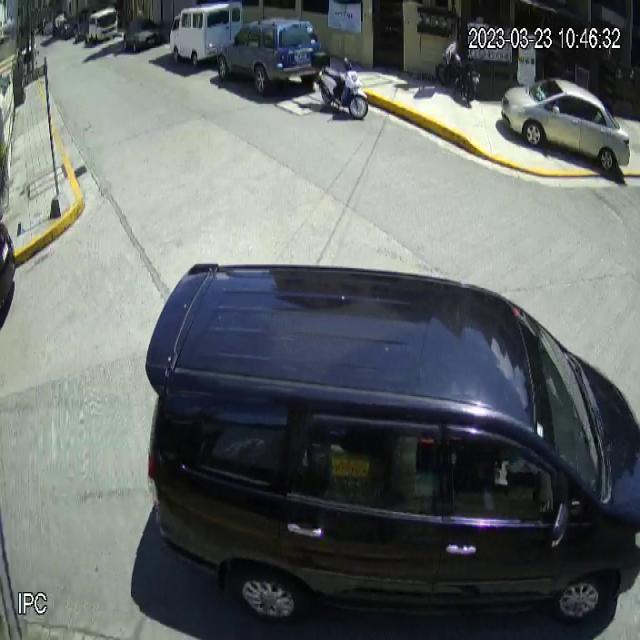Car: (144, 257, 640, 640), (499, 75, 632, 172), (216, 18, 320, 97)
Motorcycle: (310, 51, 369, 120)
Van: (169, 0, 244, 69)
